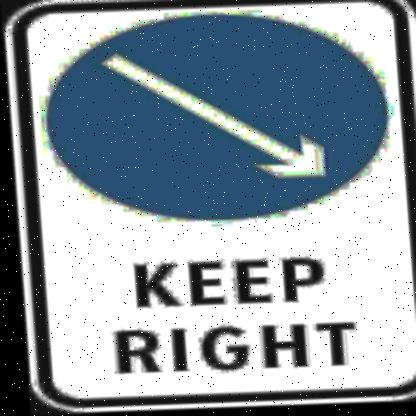Keep right: (36, 6, 415, 239)
